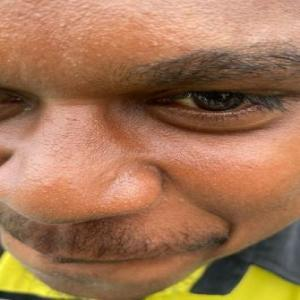Oily-Skin: (8, 104, 138, 215)
